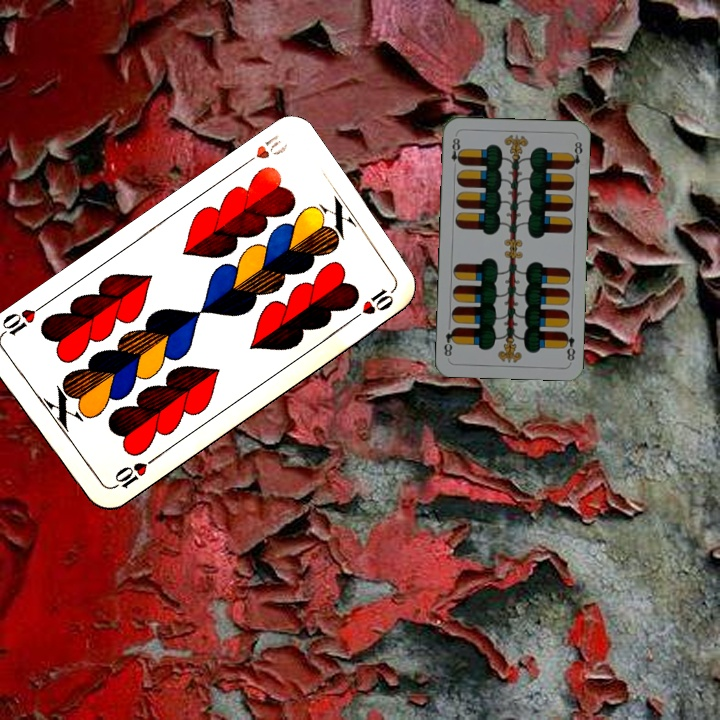E8: (447, 132, 465, 172), (559, 328, 578, 363)
H10: (236, 131, 291, 171), (106, 453, 158, 492)
